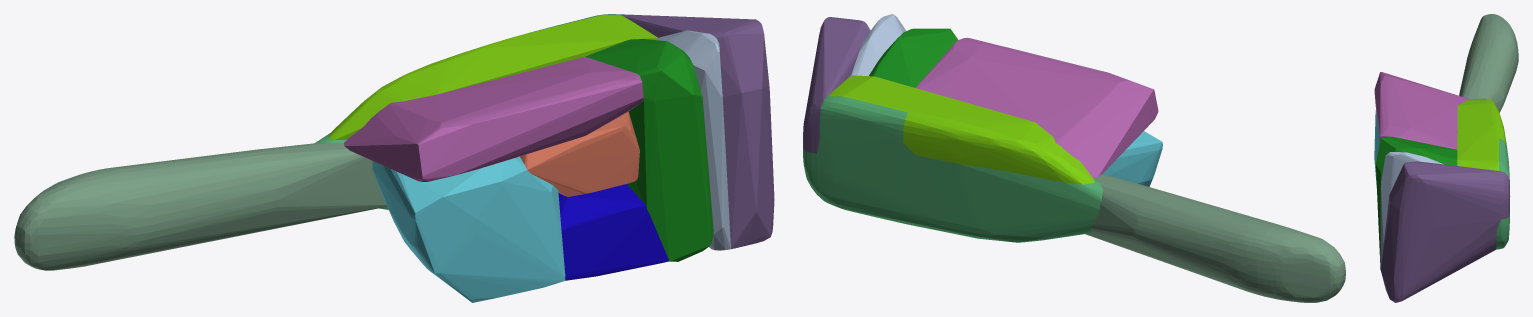
Rendered from red_brush.obj.
3 views of the same model, side by side, from view 1: azimuth 30°, elevation 25°; view 2: azimuth 150°, elevation 25°; view 3: azimuth 270°, elevation 25° (orthographic). The views are drawn at different scales.
Parts seen in each view (by area): view 1: geometry_0, geometry_7, geometry_2, geometry_8, geometry_1, geometry_4, geometry_5, geometry_9, geometry_6; view 2: geometry_3, geometry_0, geometry_7, geometry_4, geometry_1, geometry_8, geometry_2, geometry_6; view 3: geometry_1, geometry_7, geometry_0, geometry_4, geometry_8, geometry_6, geometry_3, geometry_2.
Part boxes in pixels (box(x1,y1,x2,y2)): geometry_0: box(14, 142, 386, 270); geometry_7: box(344, 56, 643, 181); geometry_2: box(372, 156, 565, 302); geometry_8: box(585, 39, 713, 261); geometry_1: box(620, 14, 774, 248); geometry_4: box(328, 15, 657, 139); geometry_5: box(558, 184, 668, 280); geometry_9: box(520, 111, 639, 196); geometry_6: box(653, 30, 730, 250); geometry_3: box(803, 96, 1102, 242); geometry_0: box(1085, 174, 1345, 302); geometry_7: box(915, 38, 1158, 178); geometry_4: box(827, 75, 1094, 184); geometry_1: box(803, 17, 870, 153); geometry_8: box(869, 28, 957, 87); geometry_2: box(1103, 131, 1162, 186); geometry_6: box(851, 14, 906, 75); geometry_1: box(1380, 161, 1509, 302); geometry_7: box(1374, 72, 1470, 149); geometry_0: box(1459, 14, 1518, 112); geometry_4: box(1457, 98, 1506, 170); geometry_8: box(1376, 136, 1457, 269); geometry_6: box(1380, 152, 1443, 265); geometry_3: box(1496, 138, 1510, 249); geometry_2: box(1374, 110, 1379, 188).
Bounding box in the file's own units: 0.322 × 0.0963 × 0.0936.
